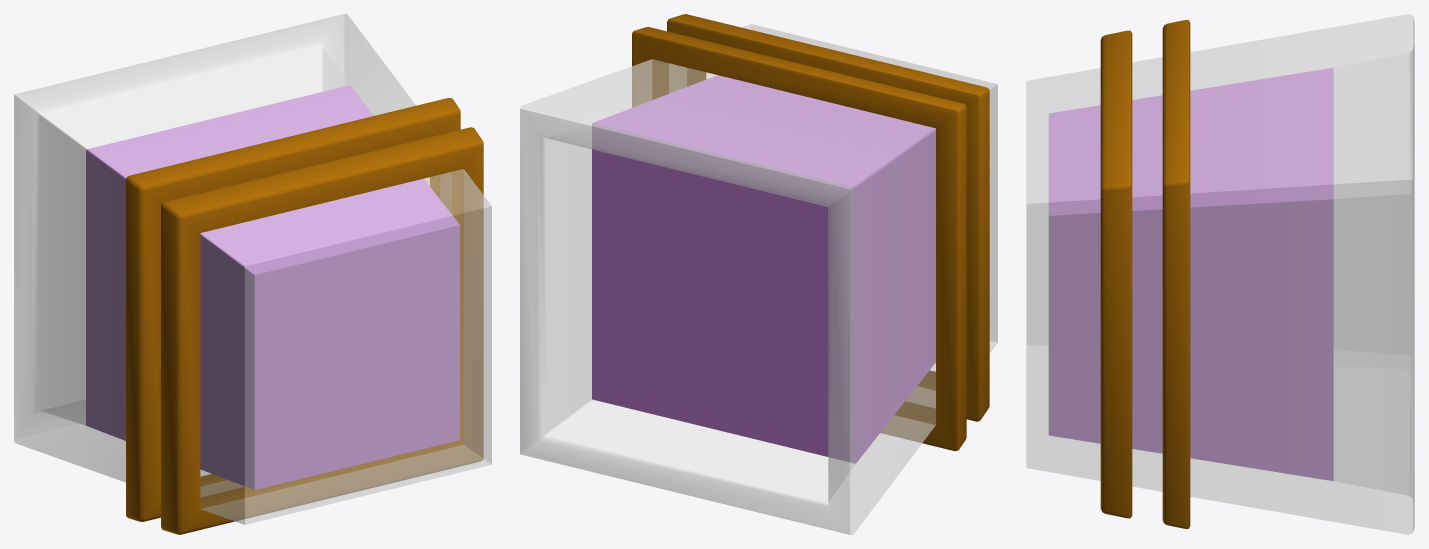
File: Drink.fbx
The picture shows the model from 3 angles, left to right: view 1: azimuth 30°, elevation 25°; view 2: azimuth 150°, elevation 25°; view 3: azimuth 270°, elevation 25°; orthographic projection. The views are drawn at different scales.
Parts seen in each view (by area): view 1: Glass; view 2: Glass; view 3: Glass.
Part boxes in pixels (x1,y1,x2,y2): Glass: (14,14,491,534); Glass: (520,14,997,534); Glass: (1026,14,1414,534).
Bounding box in the file's own units: 20.19 × 20.19 × 20.
